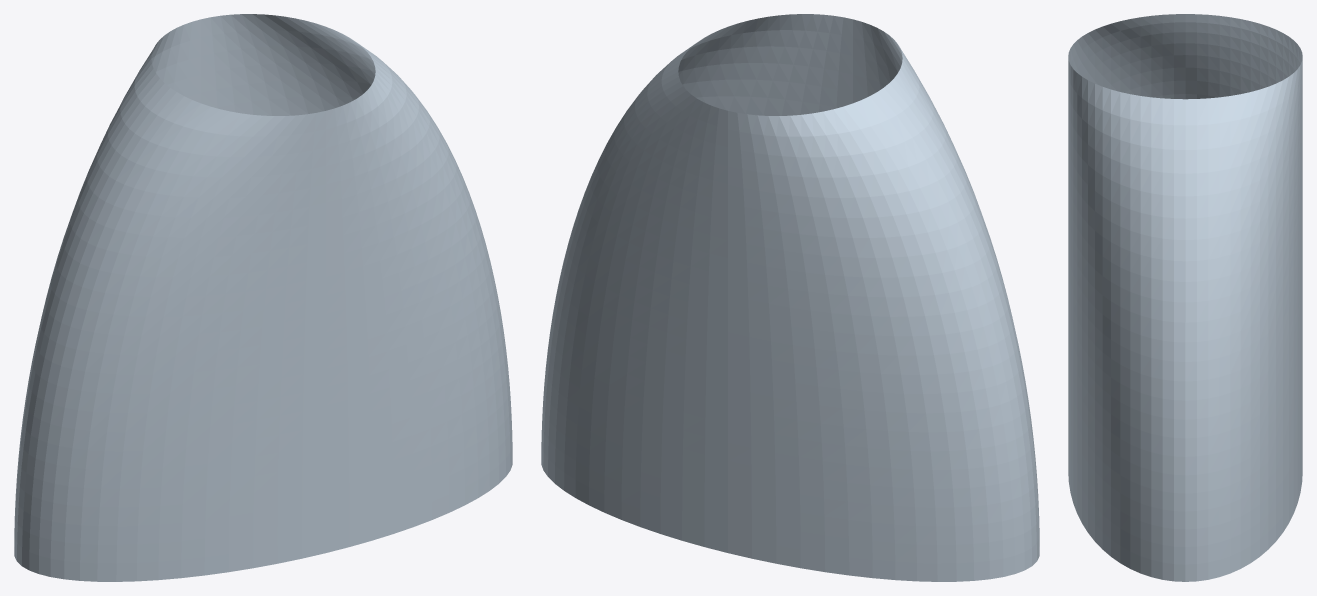
The model's file is 2040_CrystalShield_UpperCrystalShield.fbx.
3 views of the same model, side by side, from view 1: azimuth 30°, elevation 25°; view 2: azimuth 150°, elevation 25°; view 3: azimuth 270°, elevation 25° (orthographic). The views are drawn at different scales.
Parts seen in each view (by area): view 1: PART_UpperHalfHeightFadeShield; view 2: PART_UpperHalfHeightFadeShield; view 3: PART_UpperHalfHeightFadeShield.
Part boxes in pixels (bbox=[...]): PART_UpperHalfHeightFadeShield: bbox=[14, 14, 512, 581]; PART_UpperHalfHeightFadeShield: bbox=[541, 14, 1039, 581]; PART_UpperHalfHeightFadeShield: bbox=[1068, 14, 1302, 581].
Size of the model in its own units: 232 by 203 by 104.
